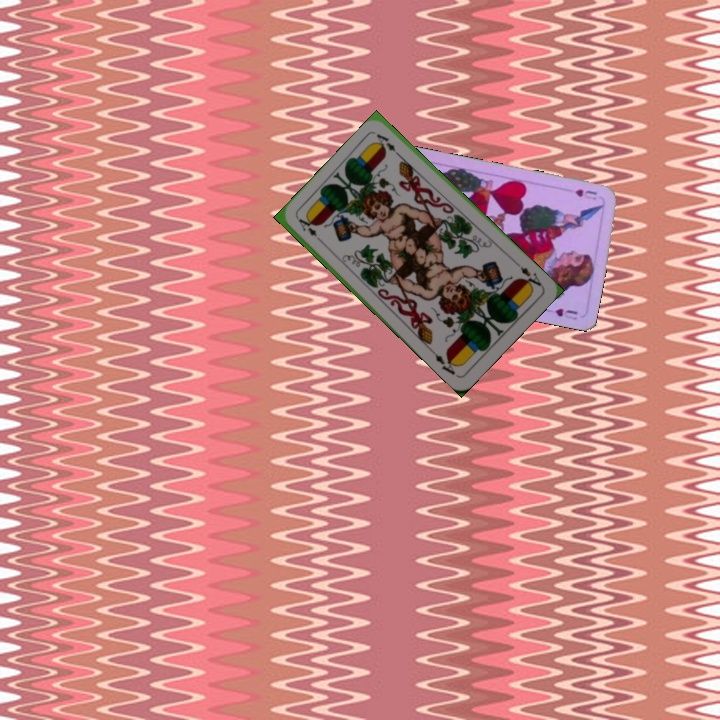EA: (512, 258, 544, 292), (294, 214, 326, 246)
HU: (570, 185, 600, 203)
